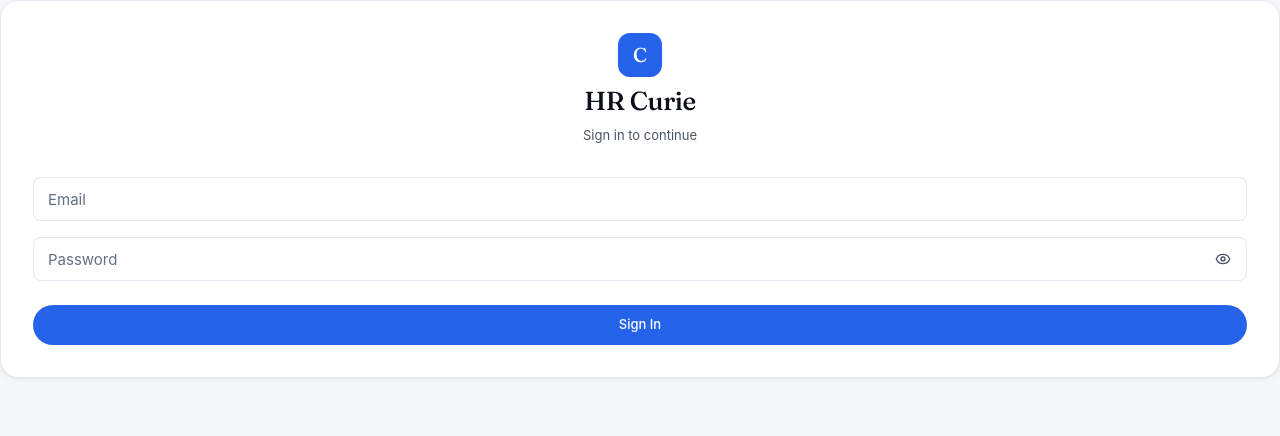
LoginForm › error display › clears error message when retrying submission
The width and height of the screenshot is (1280, 436).
Type "sofia@company.com" into the field with placeholder "Email" at (640, 199), box [33,177,1247,221]
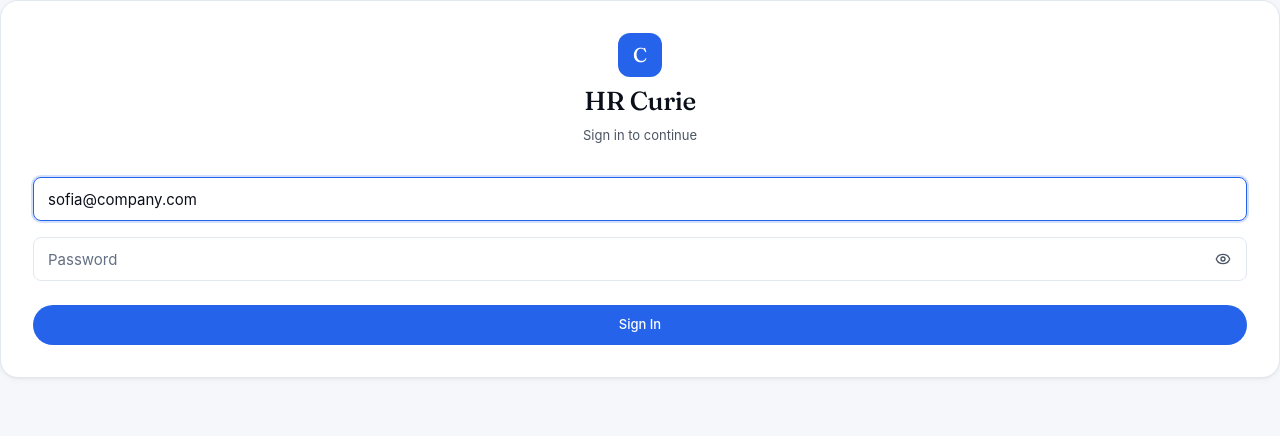
Type "wrong-pass" into the password field with placeholder "Password" at (640, 259), box [33,237,1247,281]
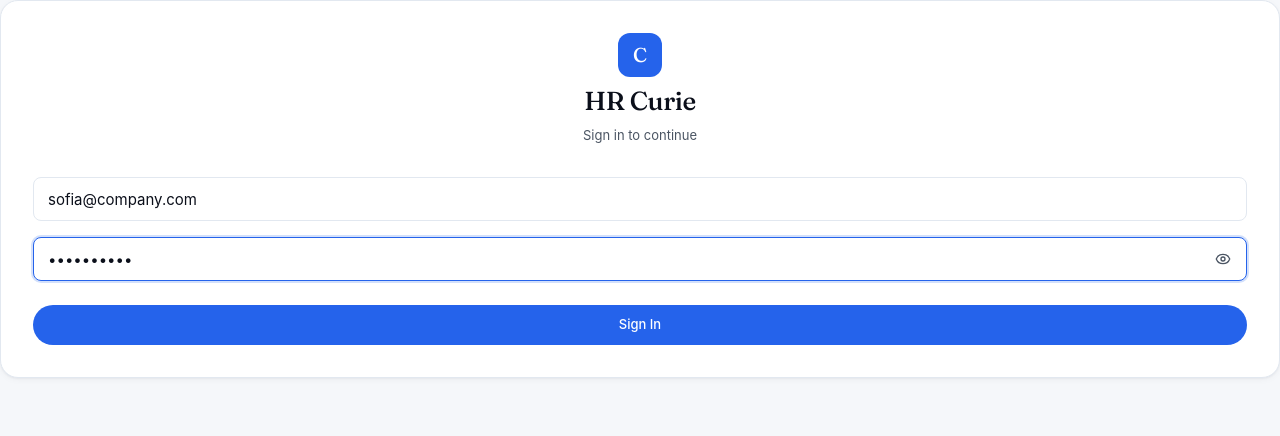
Click the button "Sign In" at (640, 325), box [33,305,1247,345]
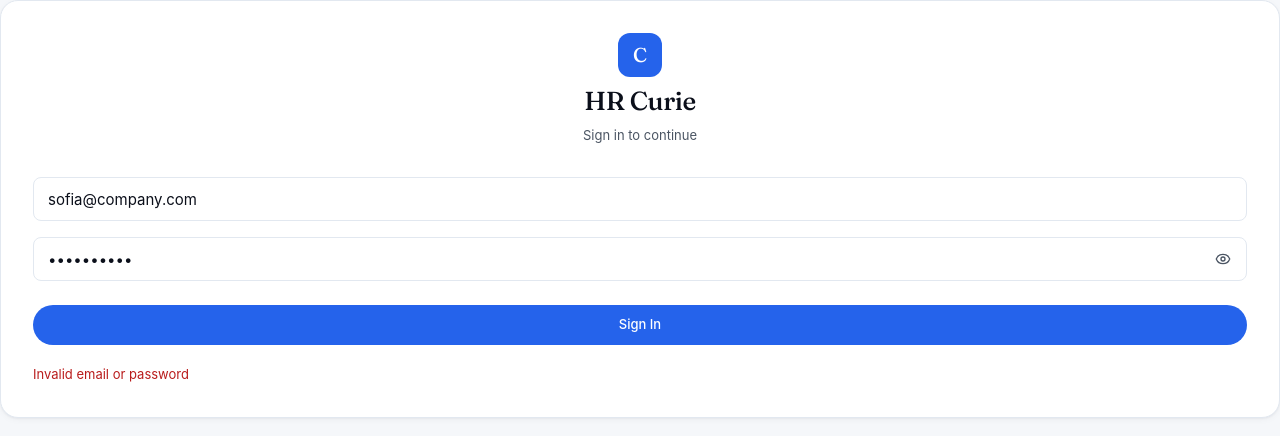
Now the text "Invalid email or password" is shown, box [33,366,189,382]
Click the button "Sign In" at (640, 325), box [33,305,1247,345]
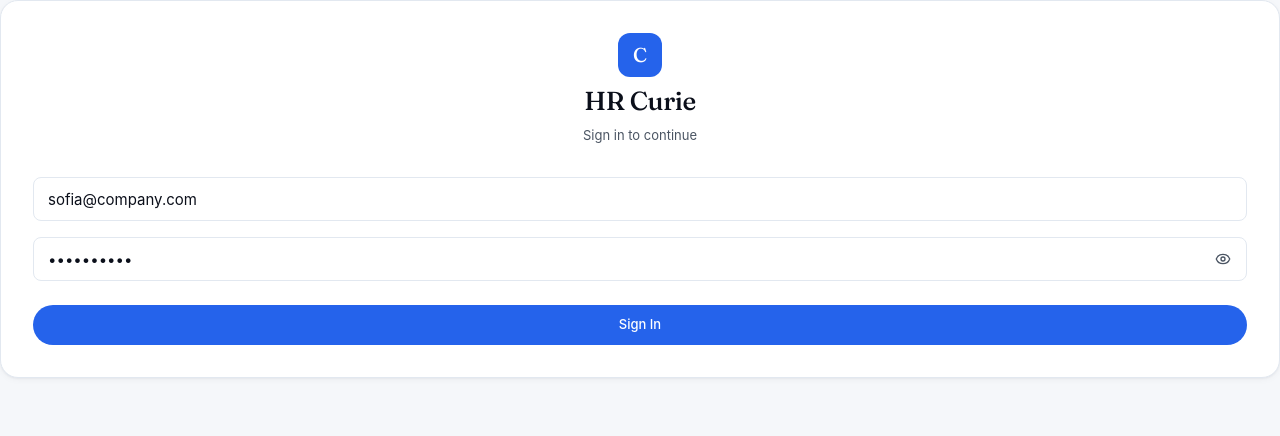
Now the text "Invalid email or password" is gone
